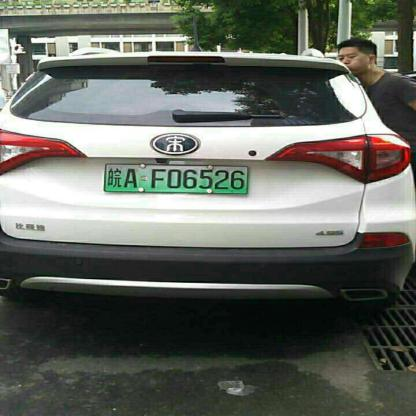lp: (103, 164, 246, 193)
